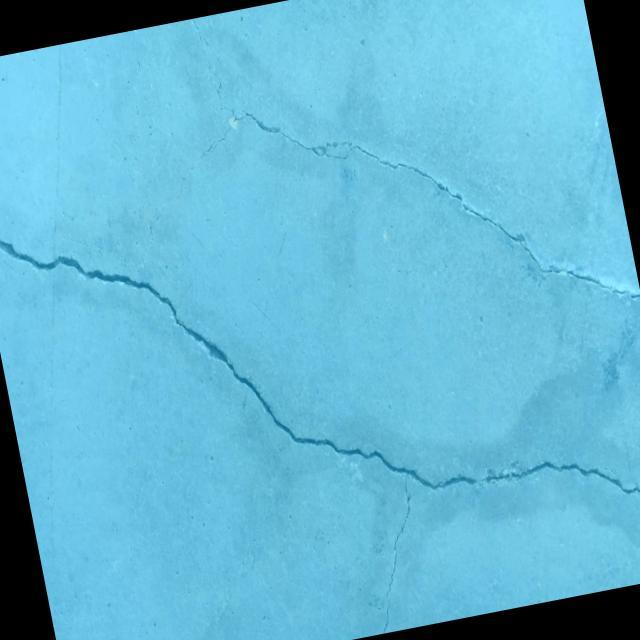crack: (0, 99, 640, 640), (174, 0, 640, 374)
